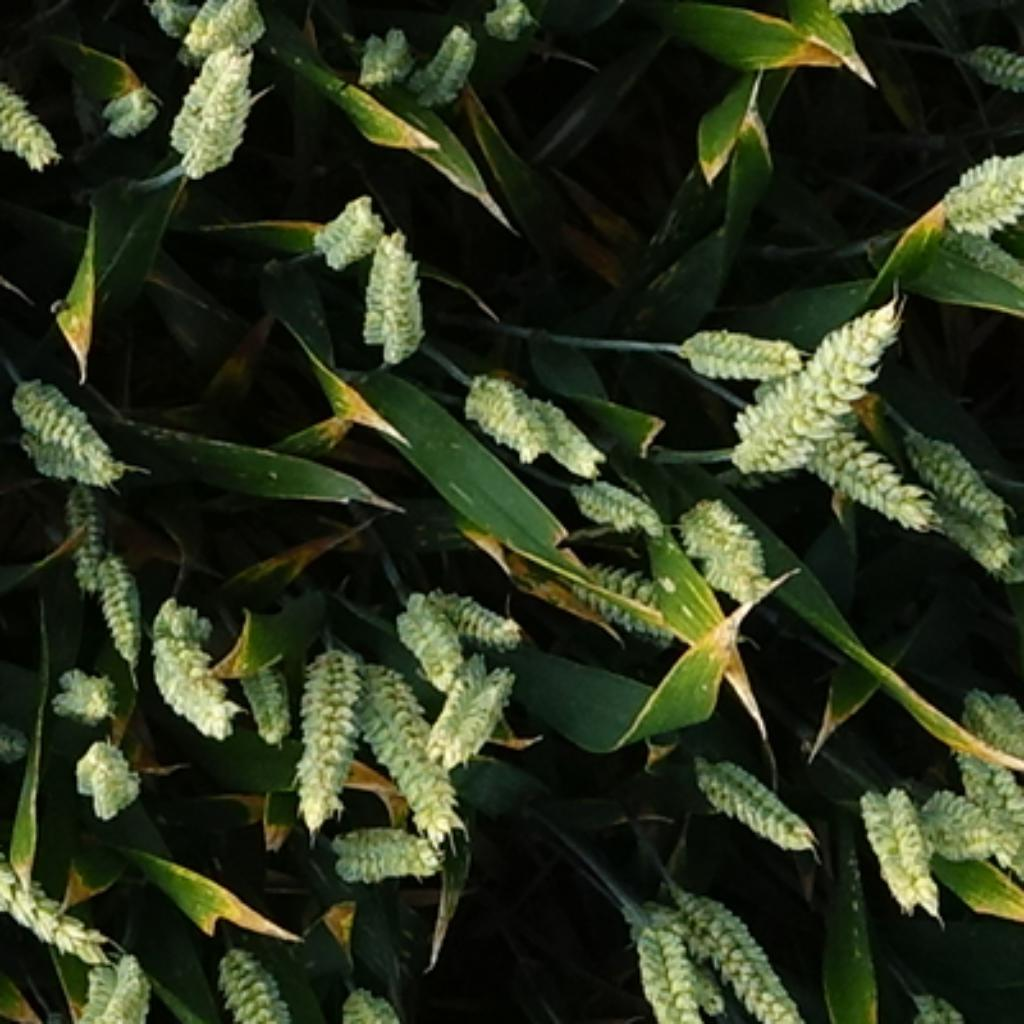0-0: (734, 299, 908, 463), (750, 348, 921, 509), (647, 870, 806, 1021), (353, 647, 450, 834), (898, 412, 1013, 560), (450, 355, 601, 463), (686, 732, 819, 847), (2, 358, 125, 478), (140, 588, 238, 734), (793, 414, 921, 519), (166, 35, 263, 171), (852, 780, 944, 921), (294, 637, 363, 824), (622, 888, 711, 1024), (0, 844, 104, 957), (394, 570, 529, 657), (555, 547, 678, 640), (71, 517, 151, 657), (679, 493, 777, 601), (358, 219, 432, 357), (650, 908, 734, 1024), (427, 652, 517, 760), (916, 765, 1016, 862), (322, 808, 445, 880), (670, 314, 806, 378), (209, 926, 296, 1024), (944, 760, 1024, 865), (935, 147, 1024, 241), (389, 583, 476, 673), (0, 81, 63, 198), (7, 430, 122, 488), (71, 939, 151, 1021), (65, 740, 141, 824), (407, 12, 476, 102), (565, 463, 660, 527), (61, 476, 125, 570), (309, 184, 386, 261), (947, 683, 1024, 760), (348, 17, 419, 84), (944, 40, 1024, 99), (330, 967, 417, 1021), (148, 596, 220, 660), (46, 655, 117, 719), (184, 0, 268, 51), (94, 71, 158, 133), (240, 650, 286, 732), (898, 980, 977, 1024), (476, 0, 537, 38), (143, 0, 199, 33)
